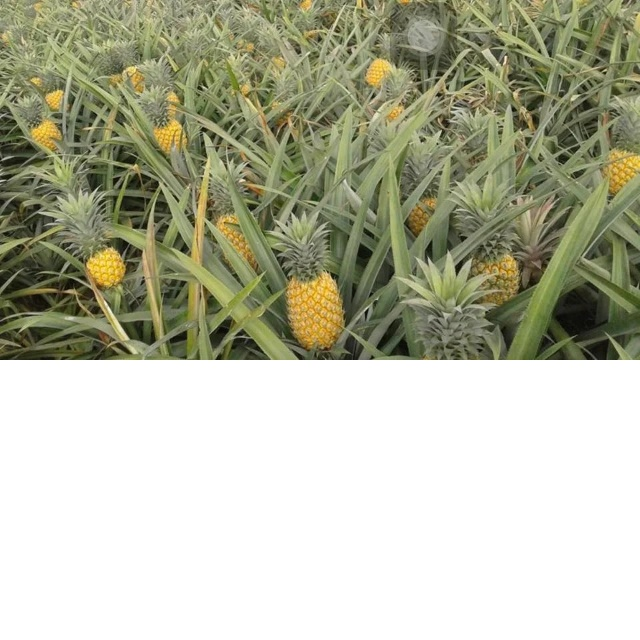thom: (268, 241, 355, 349), (458, 234, 525, 306), (62, 231, 131, 290), (592, 127, 640, 197), (12, 110, 65, 151), (145, 109, 190, 156)
